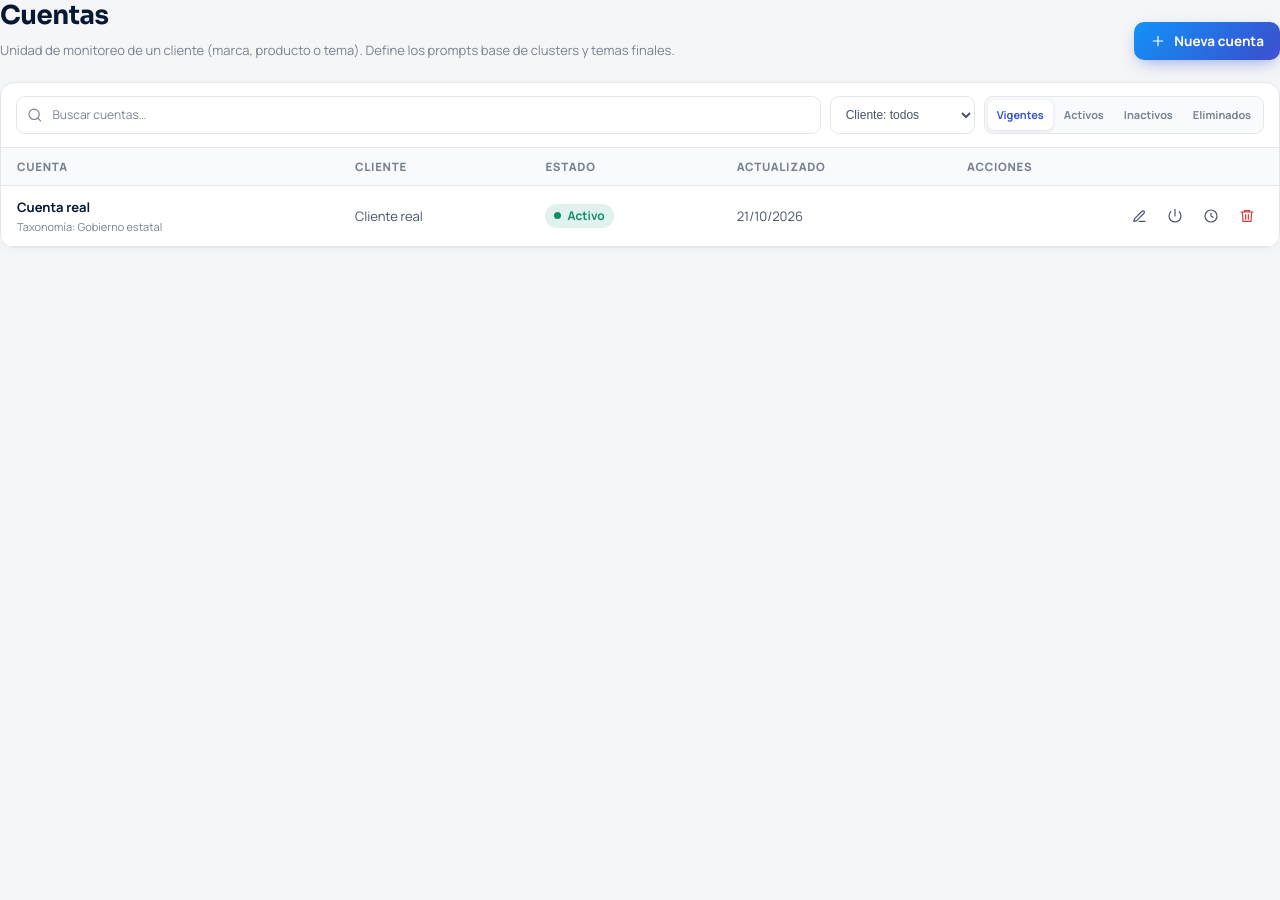
Test case: Cuentas con el patrón de Clientes › eliminar abre confirmación sin navegar
This screenshot has width=1280, height=900.
Click the button named "Eliminar Cuenta real": click(1247, 216) left=1231, top=200, right=1263, bottom=232
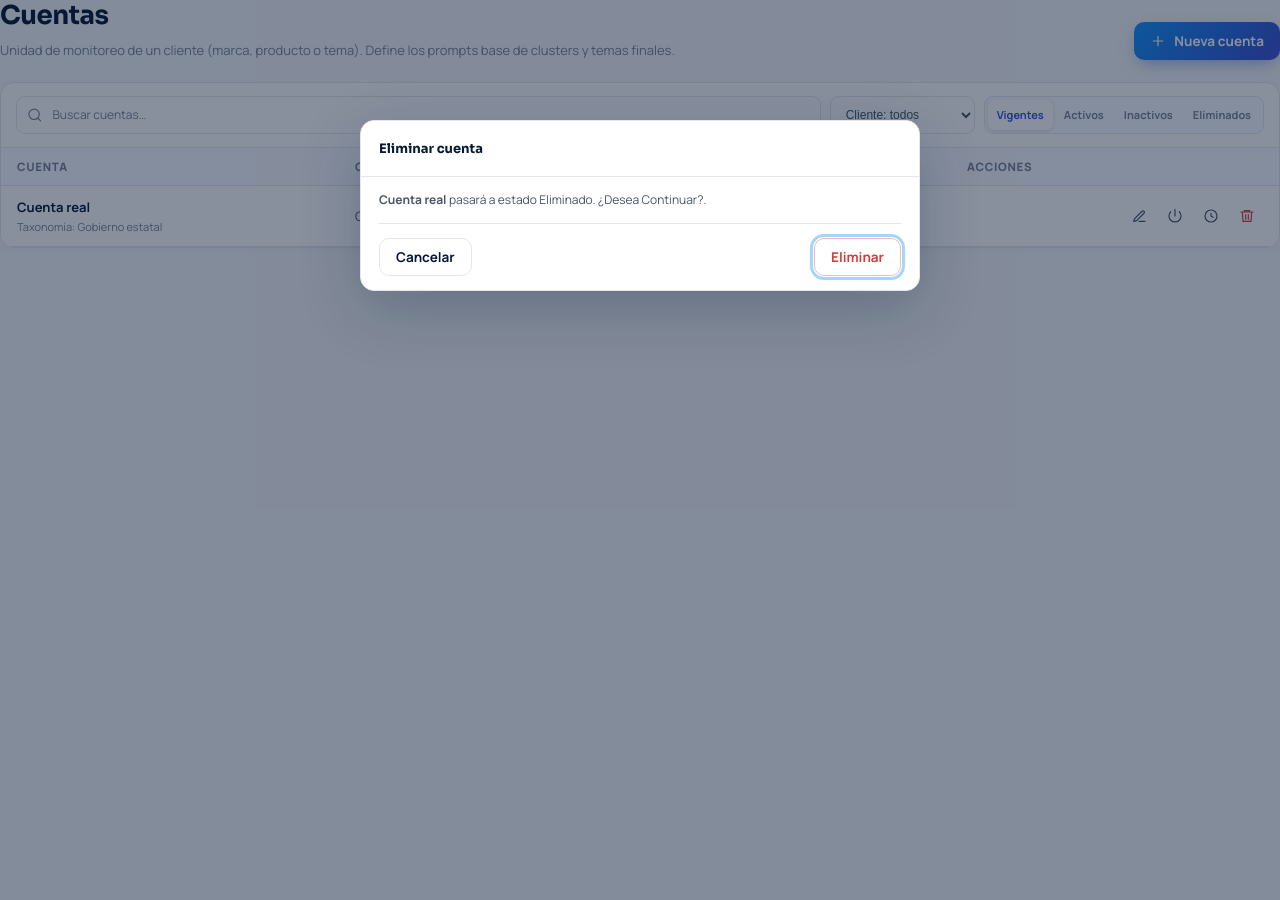
Check: the dialog "Eliminar cuenta" is shown, box left=360, top=120, right=920, bottom=291
